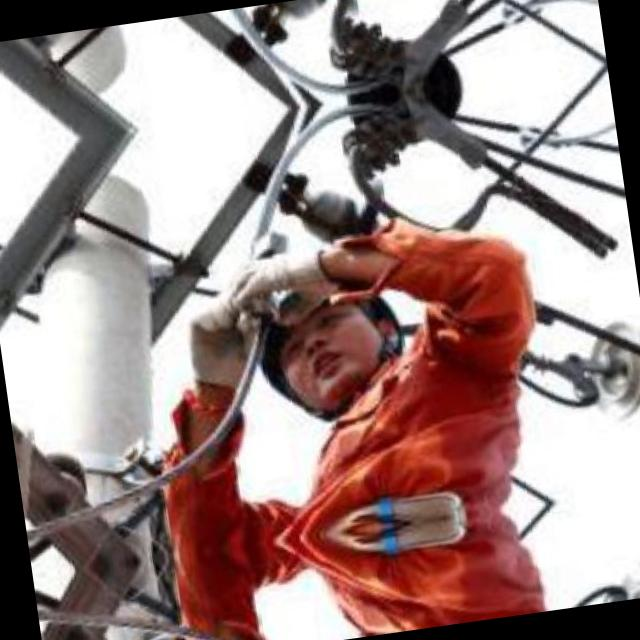helmet: (230, 263, 410, 426)
